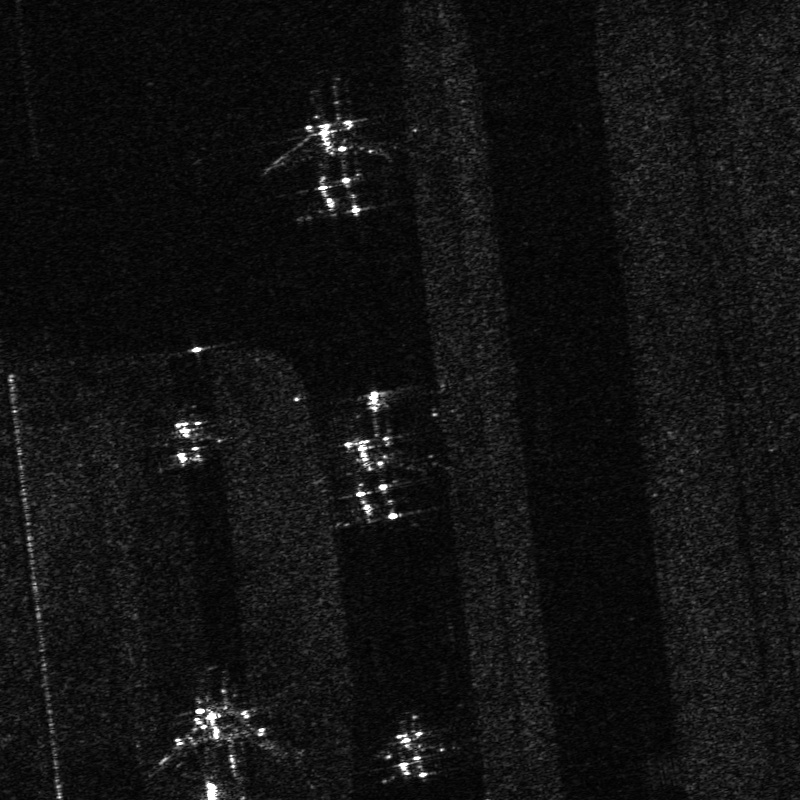A220: (148, 409, 227, 474)
A330: (360, 707, 465, 792)
other: (261, 94, 399, 222), (322, 396, 444, 531), (147, 684, 289, 799)
